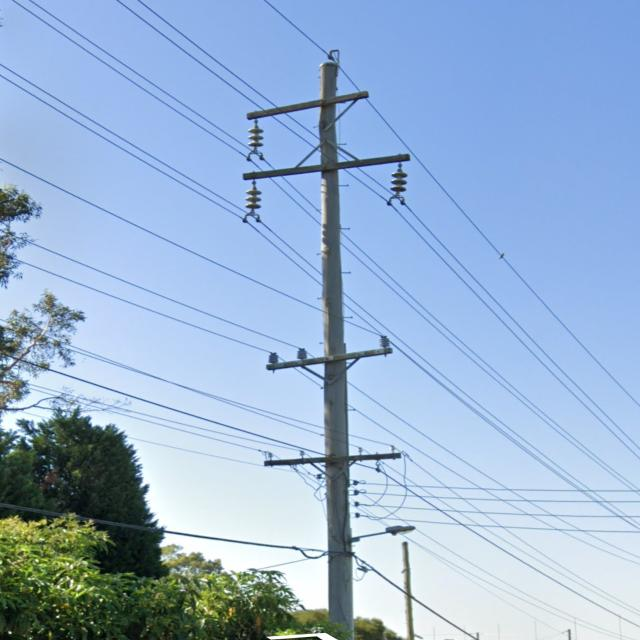HV-transmission: (241, 50, 408, 223), (266, 334, 392, 371)
crossarm: (242, 152, 409, 180), (247, 91, 368, 121), (266, 345, 392, 372), (262, 450, 398, 468)
streetlight: (352, 522, 418, 541)
timber-pole: (317, 63, 353, 640), (401, 540, 413, 640)
